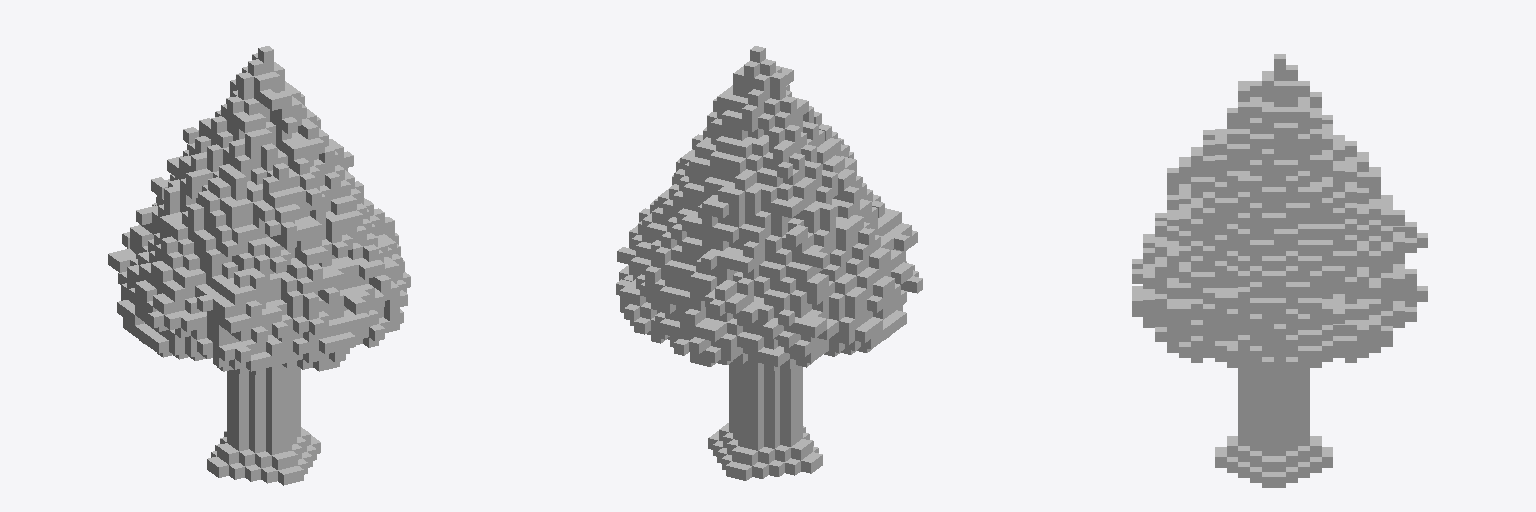
File: arvore 2.obj
3 renders of one model, left to right at view 1: azimuth 30°, elevation 25°; view 2: azimuth 150°, elevation 25°; view 3: azimuth 270°, elevation 25°, orthographic.
Parts seen in each view (by area): view 1: object 1; view 2: object 1; view 3: object 1.
Part boxes in pixels (x1,y1,x2,y2): object 1: (108, 46, 410, 485); object 1: (616, 46, 922, 480); object 1: (1132, 54, 1427, 487).
Bounding box in the file's own units: 2.5 × 3.8 × 2.5.